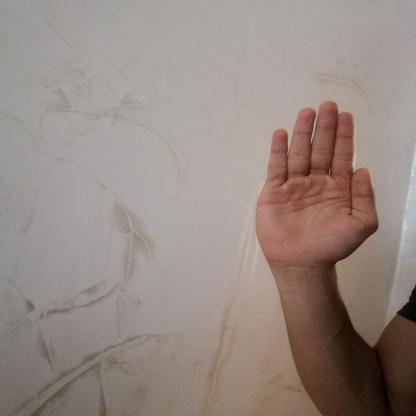SEEN: (242, 92, 387, 272)
